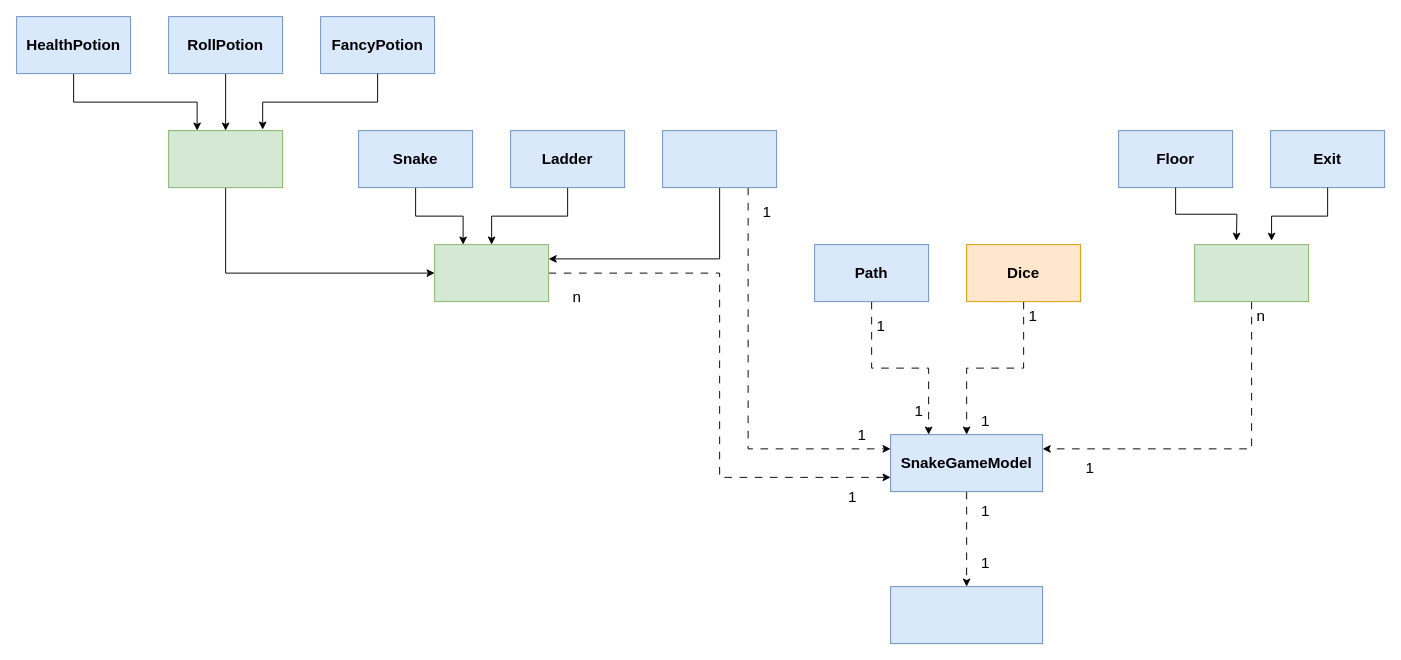
The diagram is 1401 pixels wide and 660 high, and some of its shapes have lost their labels. The shapes that lost their labels are listed below. From the top down, each one's centre as x and y in pixels, then its label:
(x=225, y=159): Potion
(x=719, y=159): Player
(x=491, y=273): Entity
(x=1251, y=273): Tile
(x=966, y=615): Game
